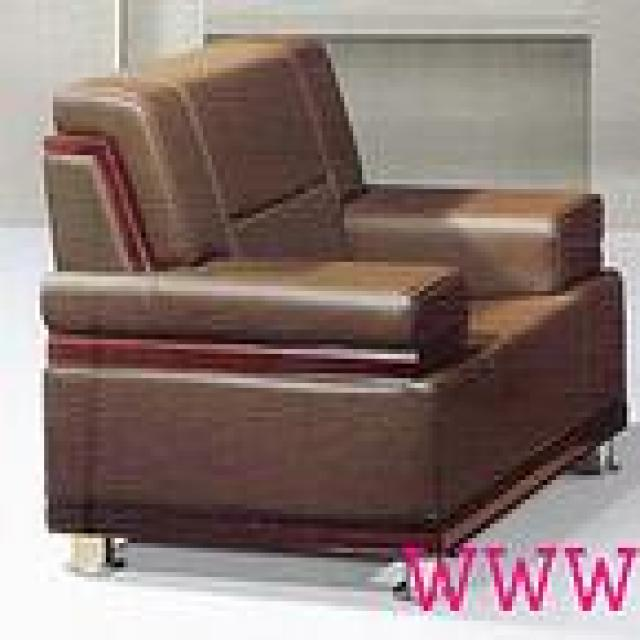sofa: (35, 38, 628, 600)
